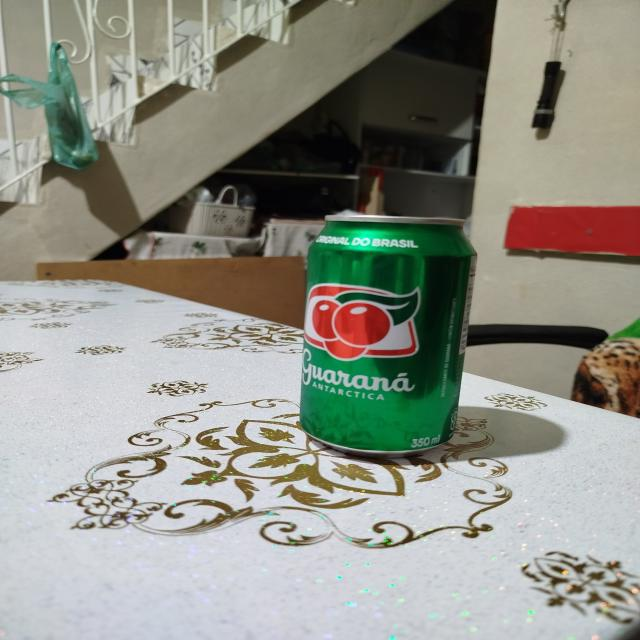Guarana: (302, 219, 476, 443)
